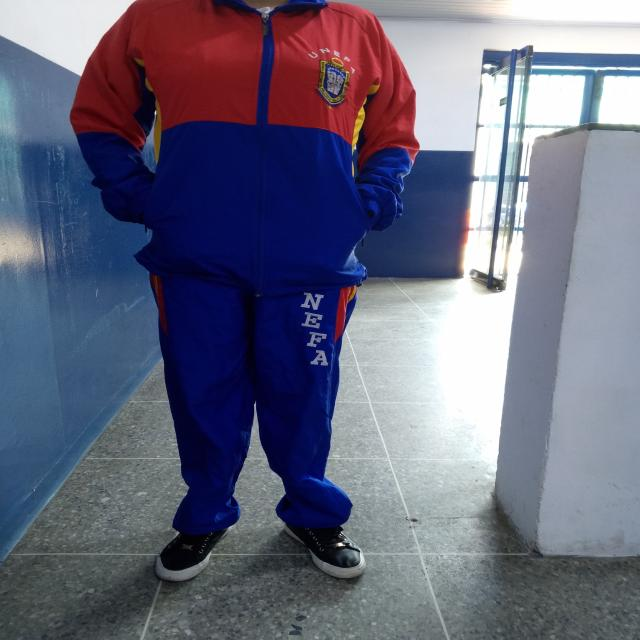chaqueta_unefa: (68, 0, 421, 292)
